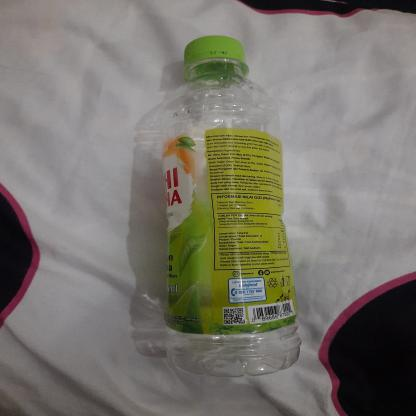bottle: (154, 29, 305, 382)
